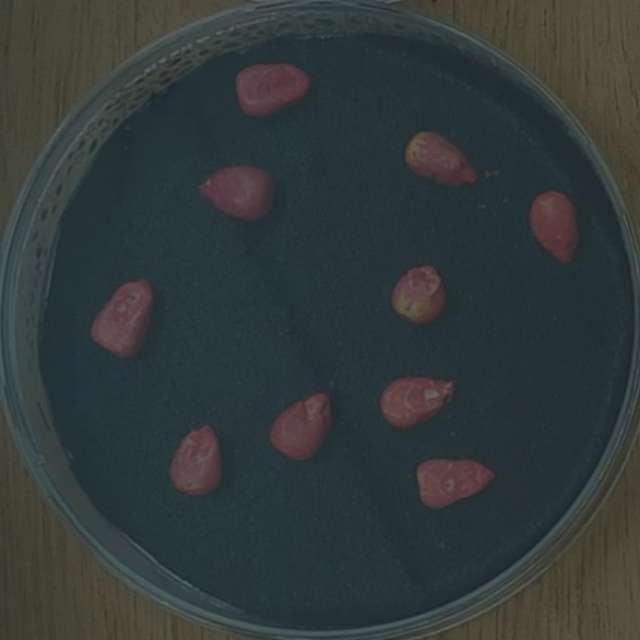Zea mays: (84, 273, 162, 366), (262, 383, 339, 470), (398, 122, 487, 197), (229, 55, 320, 126), (372, 369, 463, 437), (192, 158, 280, 228), (408, 451, 502, 516), (162, 419, 230, 506), (522, 183, 587, 274), (384, 257, 454, 332)
